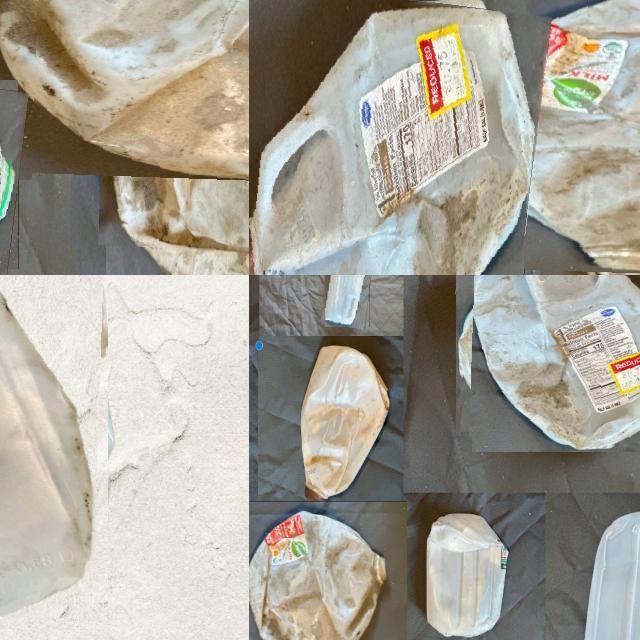milk-jug: (249, 0, 541, 275), (34, 0, 249, 253), (499, 0, 640, 275), (0, 275, 106, 616), (462, 275, 640, 445), (249, 512, 384, 640), (296, 341, 393, 498), (424, 509, 509, 640), (322, 275, 372, 328)
